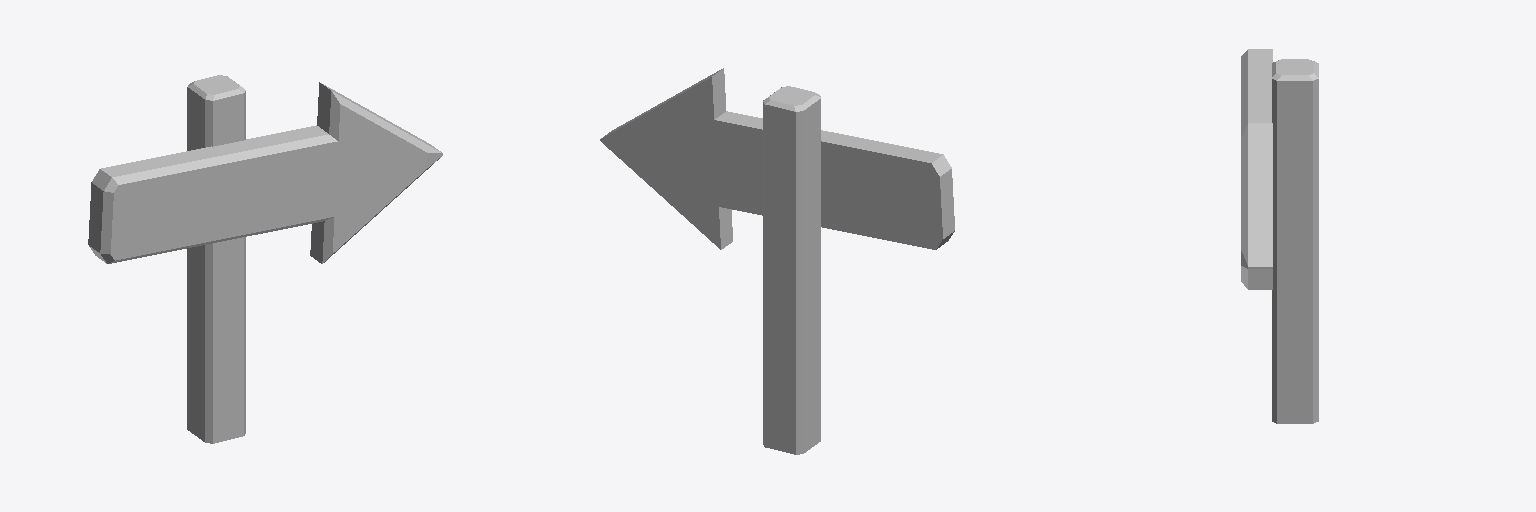
Rendered from arrow_right.obj.
The picture shows the model from 3 angles: view 1: azimuth 30°, elevation 25°; view 2: azimuth 150°, elevation 25°; view 3: azimuth 270°, elevation 25°; orthographic projection.
Parts seen in each view (by area): view 1: arrow_side; view 2: arrow_side; view 3: arrow_side.
Boxes of the visible parts, x1,y1,x2,y2 form: arrow_side: [88, 75, 442, 443]; arrow_side: [600, 68, 954, 454]; arrow_side: [1241, 49, 1318, 423].
Size of the model in its own units: 1.49 by 1.44 by 0.2906.